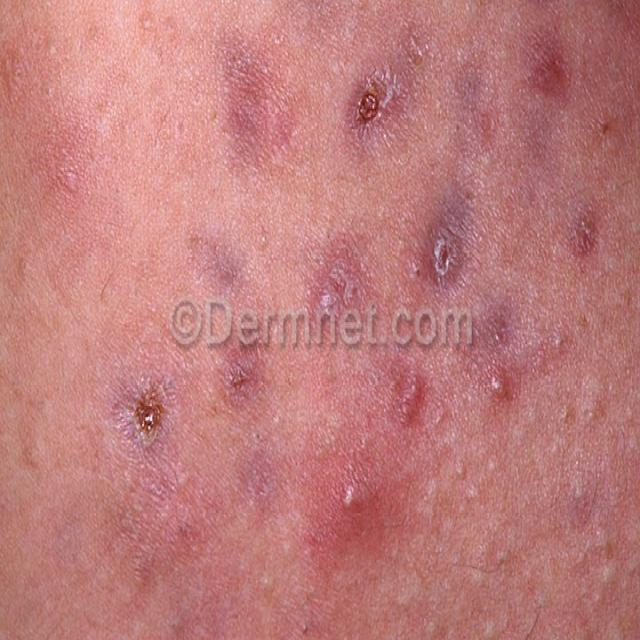Acne: (310, 434, 386, 556), (218, 34, 274, 179), (422, 183, 484, 306), (102, 364, 179, 461), (342, 61, 409, 162), (210, 343, 271, 413), (386, 363, 433, 432), (561, 202, 603, 268), (477, 355, 522, 416)
